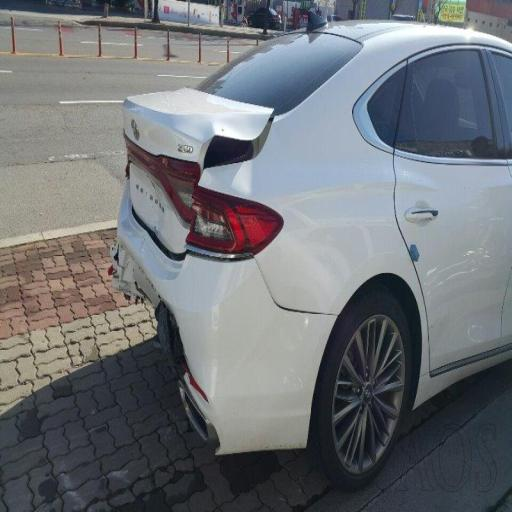broken: (117, 88, 283, 462)
